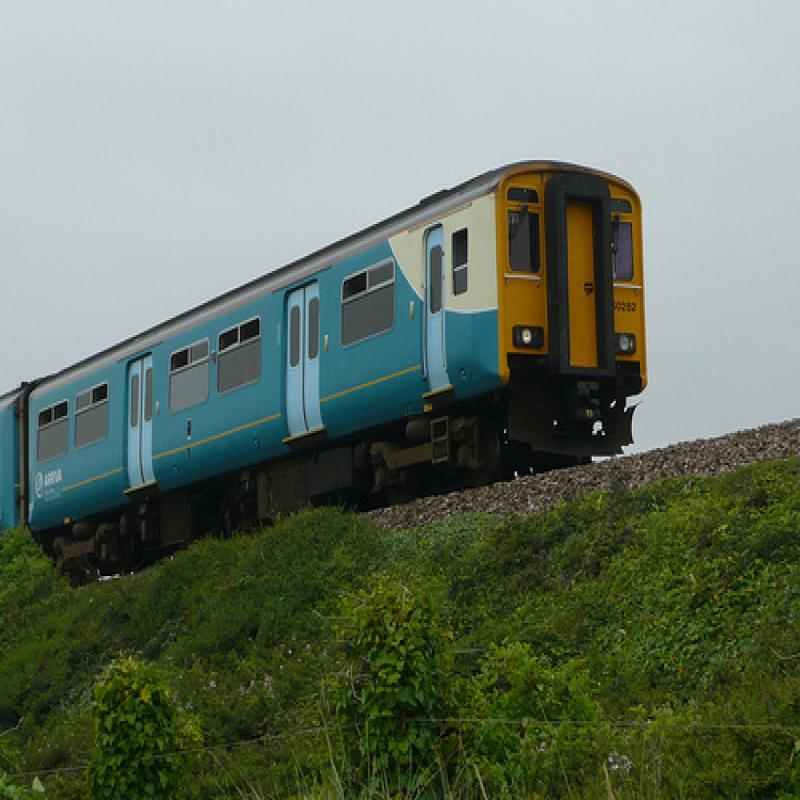train: (3, 161, 644, 603)
